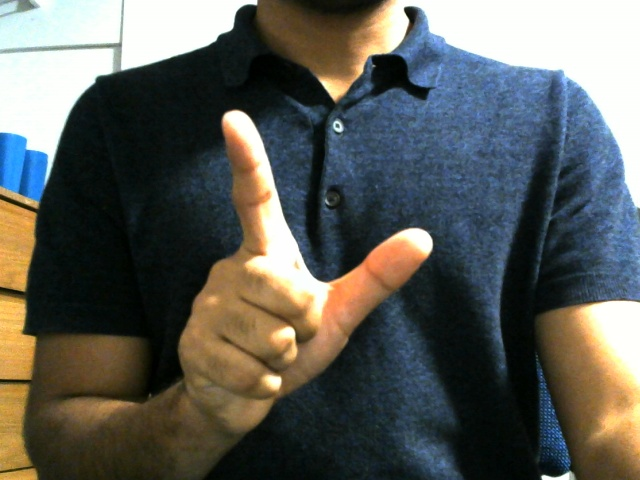L: (149, 100, 455, 439)
